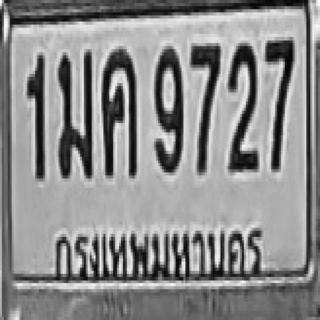A04: (100, 46, 136, 175)
A33: (57, 48, 92, 177)
N01: (26, 52, 43, 179)
N02: (226, 40, 256, 169)
N07: (263, 37, 293, 169), (189, 40, 219, 172)
N09: (152, 43, 181, 172)
P04: (49, 215, 271, 291)
